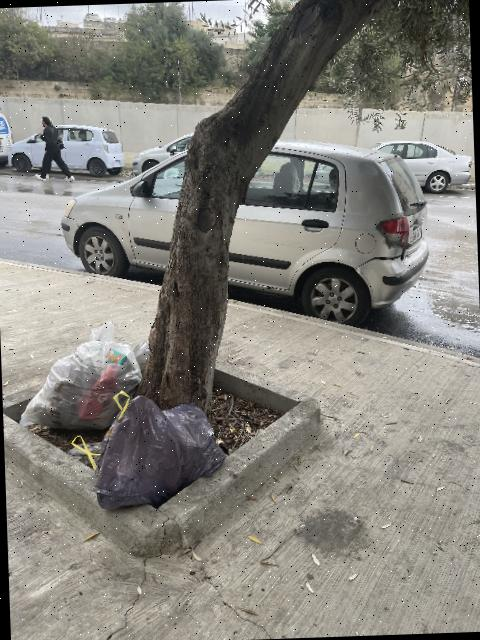Other: (95, 396, 225, 510)
Recyclable -Grey-: (20, 322, 141, 430)
